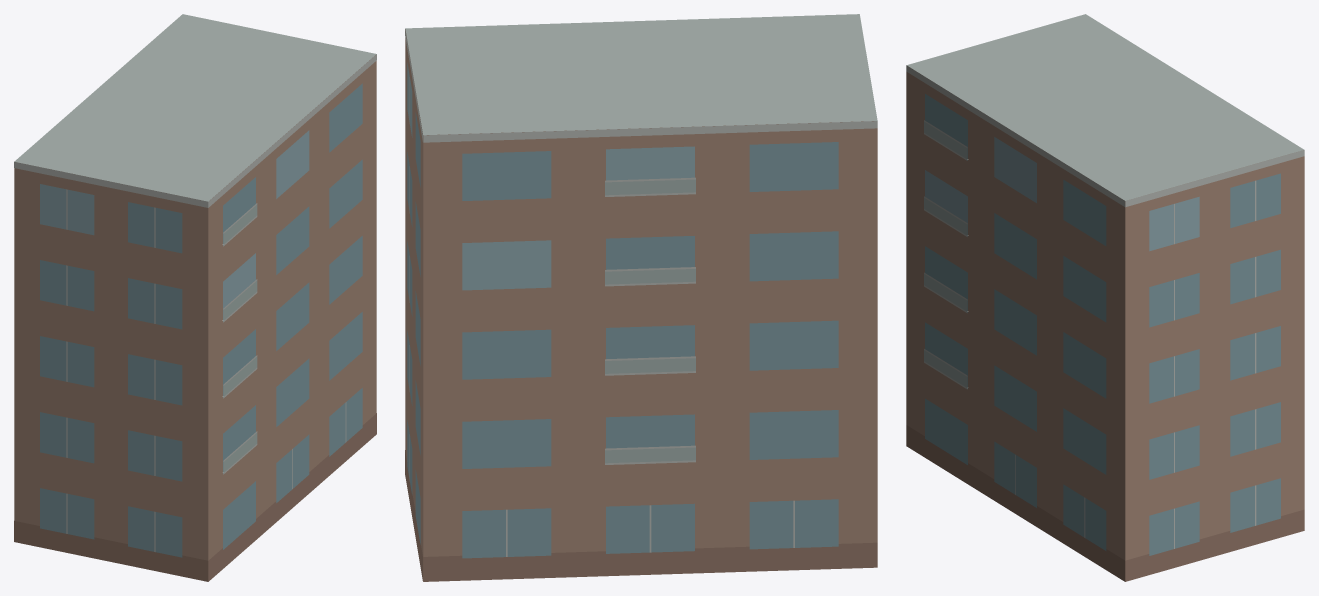
The model's file is survey-upis-32854364.glb.
3 renders of one model, left to right at view 1: azimuth 30°, elevation 25°; view 2: azimuth 150°, elevation 25°; view 3: azimuth 270°, elevation 25°, orthographic. The views are drawn at different scales.
Parts seen in each view (by area): view 1: survey-upis-32854364.tmp; view 2: survey-upis-32854364.tmp; view 3: survey-upis-32854364.tmp.
Boxes of the visible parts, x1,y1,x2,y2 form: survey-upis-32854364.tmp: [14, 14, 376, 581]; survey-upis-32854364.tmp: [405, 14, 877, 581]; survey-upis-32854364.tmp: [906, 14, 1304, 581].
Bounding box in the file's own units: 15.37 × 14.6 × 13.83.
